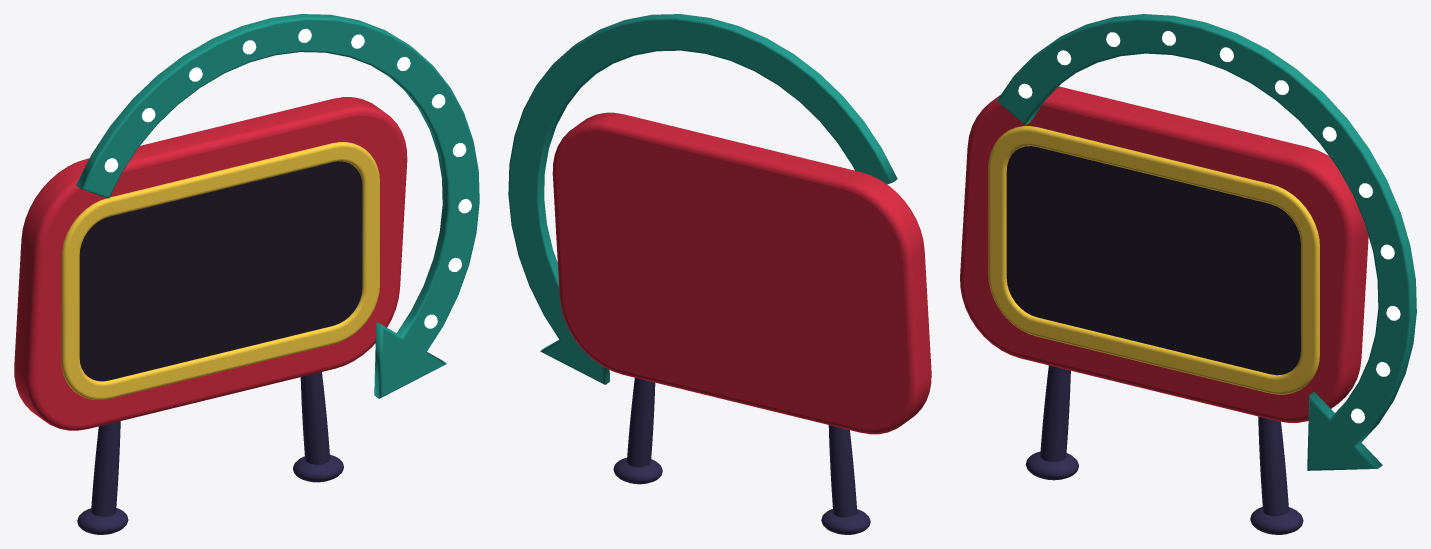
File: BB_ARROW_2.glb
3 renders of one model, left to right at view 1: azimuth 30°, elevation 25°; view 2: azimuth 150°, elevation 25°; view 3: azimuth 330°, elevation 25°, orthographic. The views are drawn at different scales.
Parts seen in each view (by area): view 1: BB_ARROW_2_FACE, BB_ARROW_2_body, BB_ARROW_2_deco0, BB_ARROW_2_frame, BB_ARROW_2_postL, BB_ARROW_2_postR, BB_ARROW_2_postL_foot, BB_ARROW_2_postR_foot; view 2: BB_ARROW_2_body, BB_ARROW_2_deco0, BB_ARROW_2_postL, BB_ARROW_2_postR, BB_ARROW_2_postL_foot, BB_ARROW_2_postR_foot; view 3: BB_ARROW_2_FACE, BB_ARROW_2_body, BB_ARROW_2_deco0, BB_ARROW_2_frame, BB_ARROW_2_postR, BB_ARROW_2_postL, BB_ARROW_2_postR_foot, BB_ARROW_2_postL_foot.
Boxes of the visible parts, <box> form: BB_ARROW_2_FACE: <box>79,161,362,381</box>; BB_ARROW_2_body: <box>14,97,407,430</box>; BB_ARROW_2_deco0: <box>76,14,479,398</box>; BB_ARROW_2_frame: <box>61,142,379,399</box>; BB_ARROW_2_postL: <box>91,421,120,516</box>; BB_ARROW_2_postR: <box>300,372,330,464</box>; BB_ARROW_2_postL_foot: <box>77,508,128,534</box>; BB_ARROW_2_postR_foot: <box>293,455,343,482</box>; BB_ARROW_2_body: <box>552,112,931,434</box>; BB_ARROW_2_deco0: <box>508,14,897,384</box>; BB_ARROW_2_postL: <box>828,425,857,517</box>; BB_ARROW_2_postR: <box>627,378,655,467</box>; BB_ARROW_2_postL_foot: <box>821,509,870,534</box>; BB_ARROW_2_postR_foot: <box>613,457,662,484</box>; BB_ARROW_2_FACE: <box>1006,146,1300,375</box>; BB_ARROW_2_body: <box>960,86,1368,422</box>; BB_ARROW_2_deco0: <box>997,14,1416,470</box>; BB_ARROW_2_frame: <box>988,126,1319,394</box>; BB_ARROW_2_postR: <box>1258,416,1288,515</box>; BB_ARROW_2_postL: <box>1040,365,1070,461</box>; BB_ARROW_2_postR_foot: <box>1250,507,1303,534</box>; BB_ARROW_2_postL_foot: <box>1025,451,1078,480</box>.
Size of the model in its own units: 12.28 by 12.77 by 1.53.
